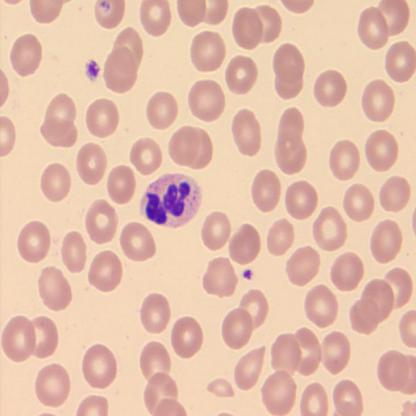Segmented neutrophil: (138, 171, 205, 230)
